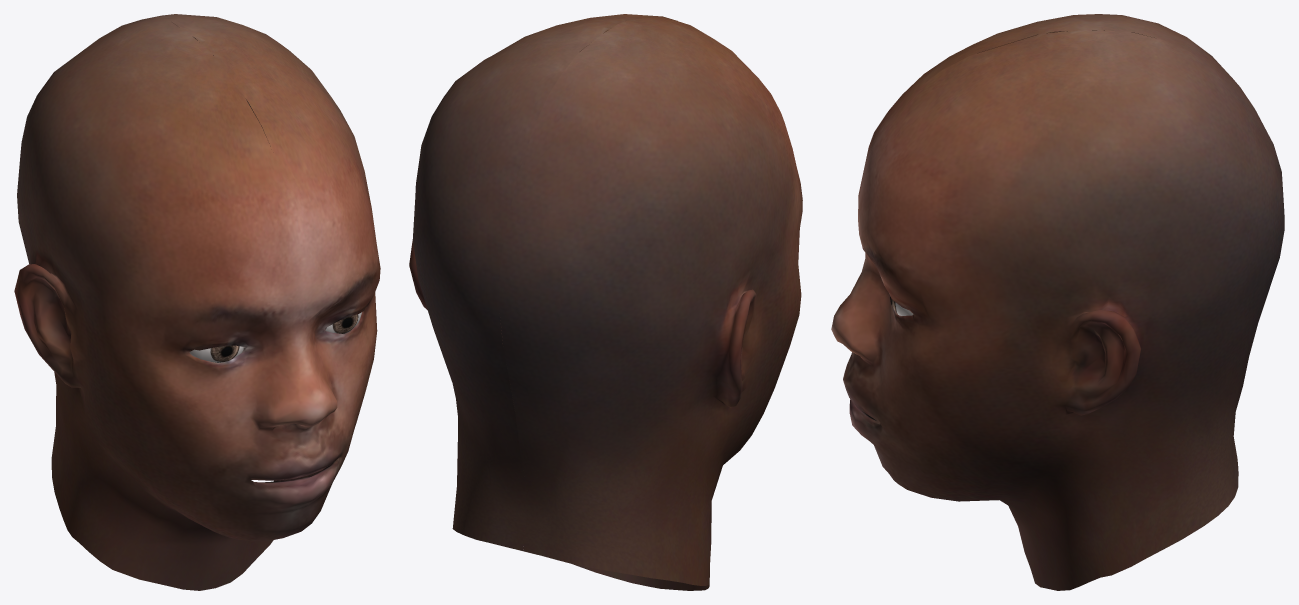
The model's file is talk_000005.obj.
3 renders of one model, left to right at view 1: azimuth 30°, elevation 25°; view 2: azimuth 150°, elevation 25°; view 3: azimuth 270°, elevation 25°, orthographic. The views are drawn at different scales.
Visible parts, largest first — view 1: model.002_model.004; view 2: model.002_model.004; view 3: model.002_model.004.
Part boxes in pixels (box(x1,y1,x2,y2)): model.002_model.004: box(14, 14, 380, 590); model.002_model.004: box(409, 14, 802, 590); model.002_model.004: box(831, 14, 1284, 590).
Size of the model in its own units: 0.4496 by 0.7367 by 0.5529.
Materials: 1 (1 with a texture image).
